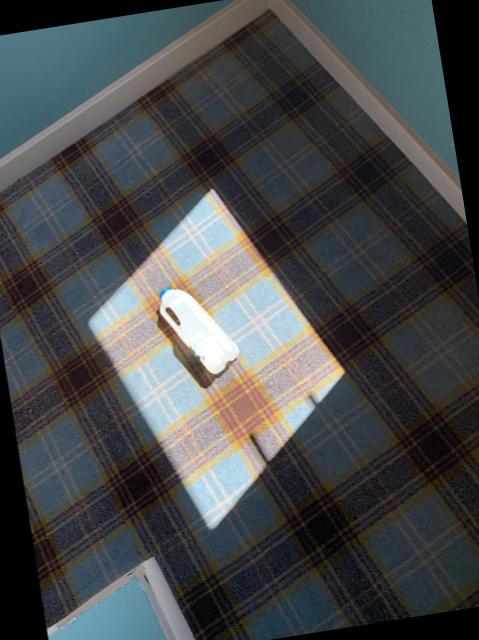plastic: (158, 287, 237, 374)
